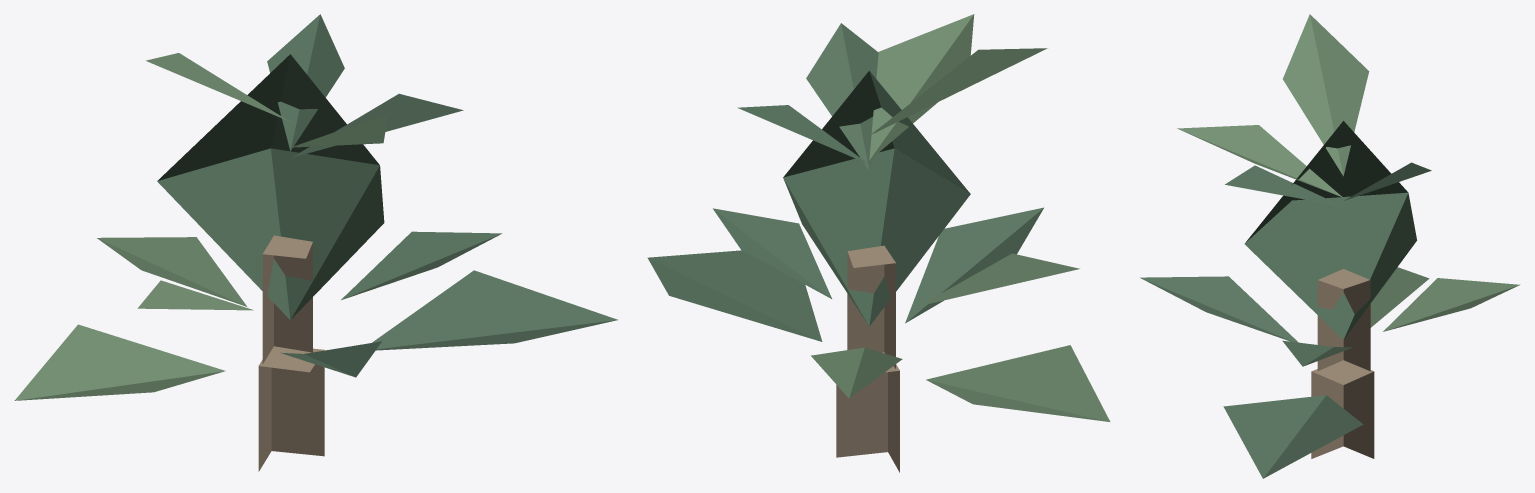
File: shu.yunshan@seedling__summer.glb
The picture shows the model from 3 angles, left to right: view 1: azimuth 30°, elevation 25°; view 2: azimuth 150°, elevation 25°; view 3: azimuth 270°, elevation 25°; orthographic projection. The views are drawn at different scales.
Visible parts, largest first — view 1: shu.yunshan@seedling__summer; view 2: shu.yunshan@seedling__summer; view 3: shu.yunshan@seedling__summer.
Boxes of the visible parts, <box> form: shu.yunshan@seedling__summer: <box>14,14,617,471</box>; shu.yunshan@seedling__summer: <box>647,14,1110,472</box>; shu.yunshan@seedling__summer: <box>1140,14,1520,478</box>.
Bounding box in the file's own units: 1.6 × 1.29 × 1.18.
